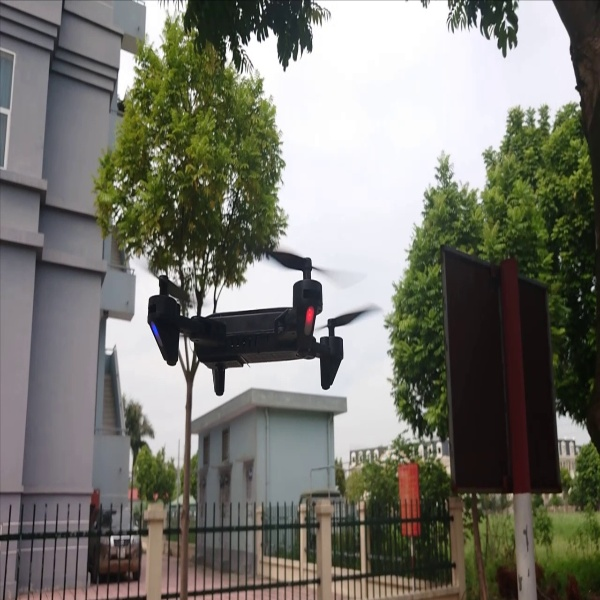drone: (140, 246, 387, 404)
